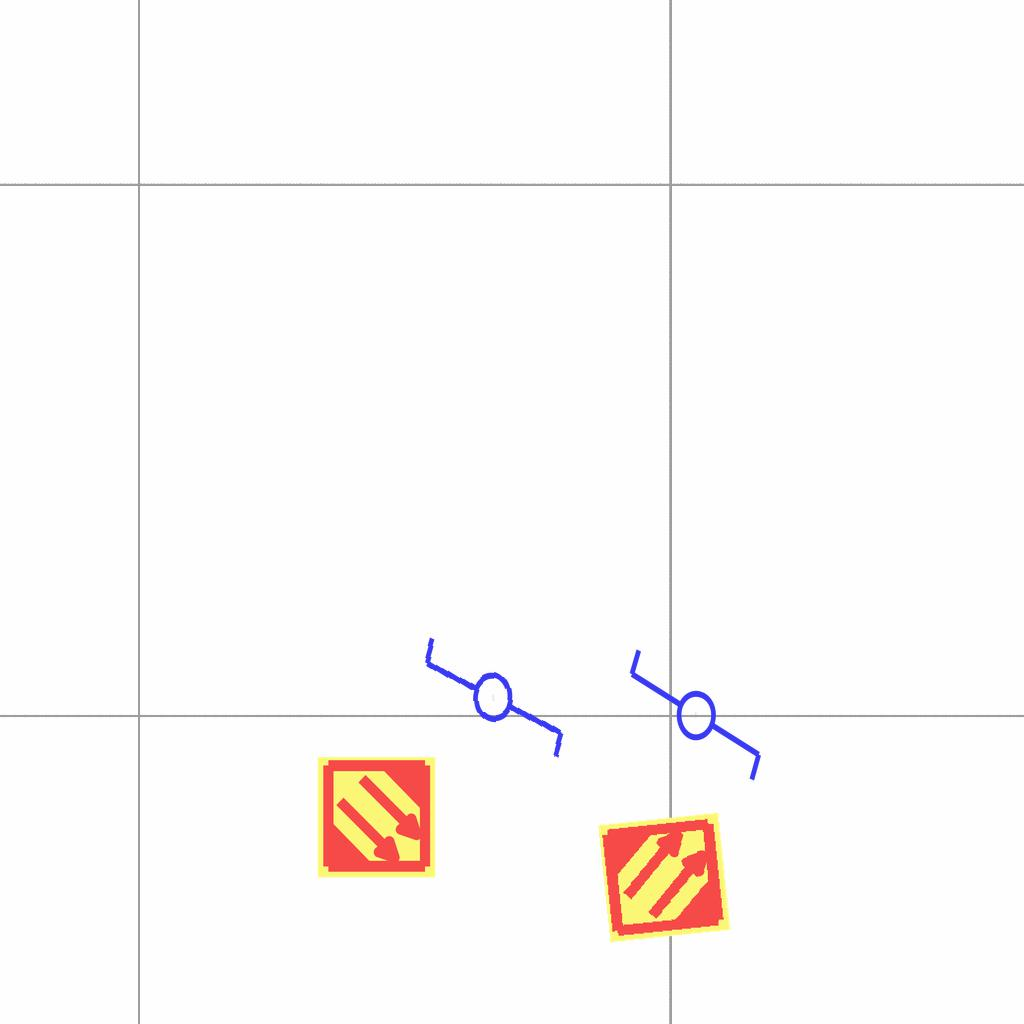ASR_Ansaugrauchmelder: (595, 808, 734, 947), (314, 755, 439, 880)
Wechselschalter: (415, 604, 574, 774), (622, 645, 766, 802)
